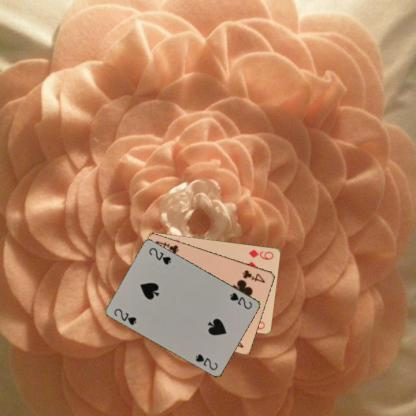2s: (228, 290, 254, 310), (112, 306, 138, 326)
4c: (240, 267, 266, 284)
9d: (246, 247, 275, 262)
